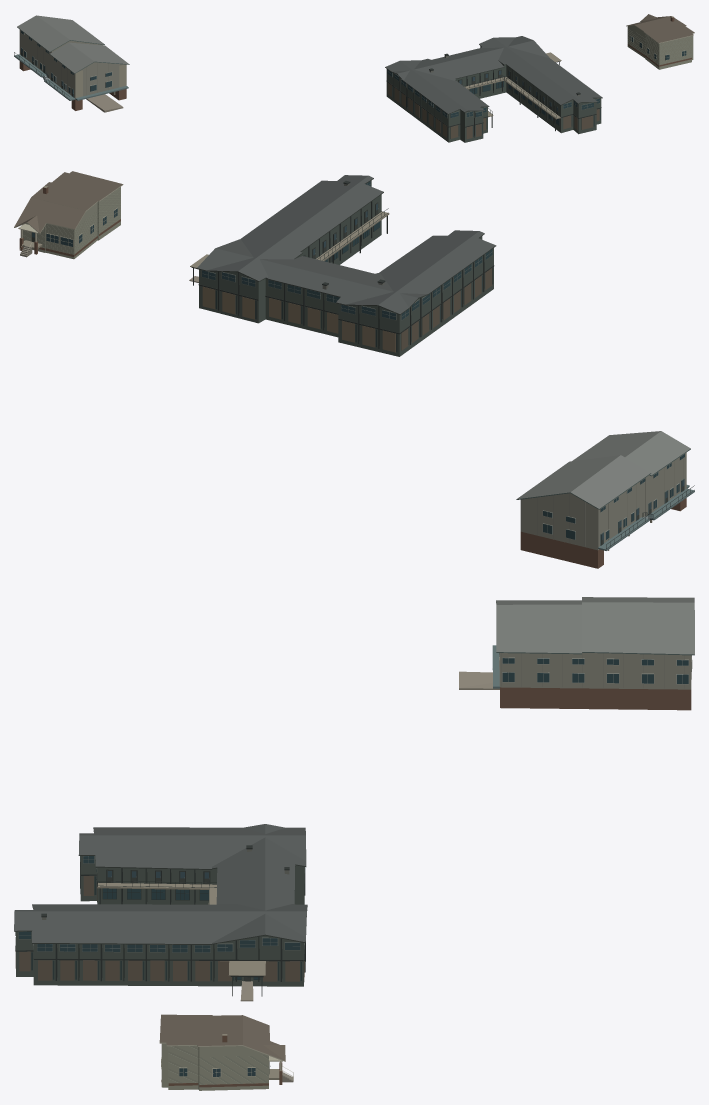
File: site.glb
The picture shows the model from 3 angles, top to bottom: view 1: azimuth 30°, elevation 25°; view 2: azimuth 150°, elevation 25°; view 3: azimuth 270°, elevation 25°; orthographic projection. The views are drawn at different scales.
Visible parts, largest first — view 1: roof-600a0bef, roof-028770d6, roof-a8318b83, east-nineteenth-approaches; view 2: roof-600a0bef, roof-028770d6, roof-a8318b83; view 3: roof-600a0bef, roof-028770d6, roof-a8318b83, east-nineteenth-approaches.
Boxes of the visible parts, left/top/right/bottom form: roof-600a0bef: left=385, top=36, right=602, bottom=142; roof-028770d6: left=14, top=15, right=129, bottom=110; roof-a8318b83: left=626, top=14, right=694, bottom=69; east-nineteenth-approaches: left=86, top=94, right=123, bottom=112; roof-600a0bef: left=190, top=175, right=496, bottom=356; roof-028770d6: left=516, top=431, right=694, bottom=568; roof-a8318b83: left=14, top=171, right=123, bottom=259; roof-600a0bef: left=14, top=824, right=307, bottom=996; roof-028770d6: left=492, top=597, right=694, bottom=710; roof-a8318b83: left=159, top=1014, right=293, bottom=1090; east-nineteenth-approaches: left=240, top=671, right=499, bottom=1001.
Size of the model in its own units: 146 by 13.78 by 98.4.
